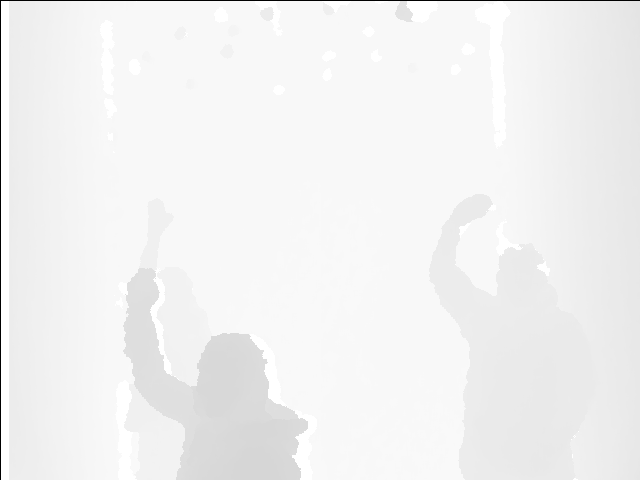hand: (446, 189, 492, 230), (126, 265, 164, 311), (146, 200, 177, 244)
